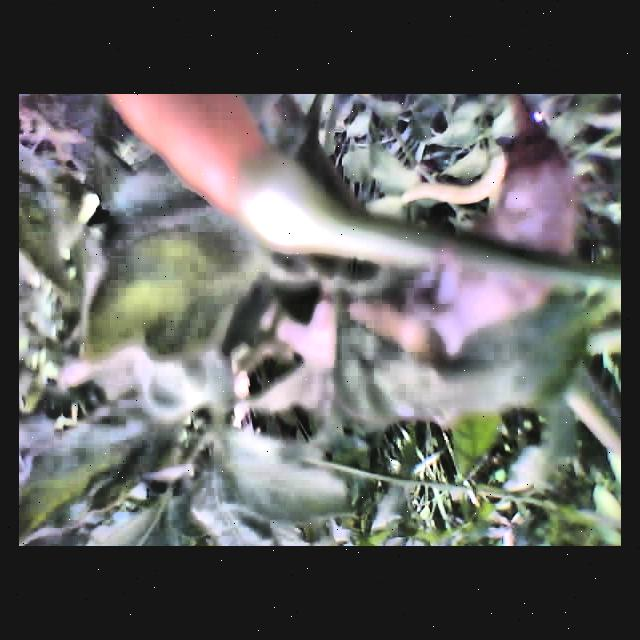Cabai: (129, 94, 356, 278)
